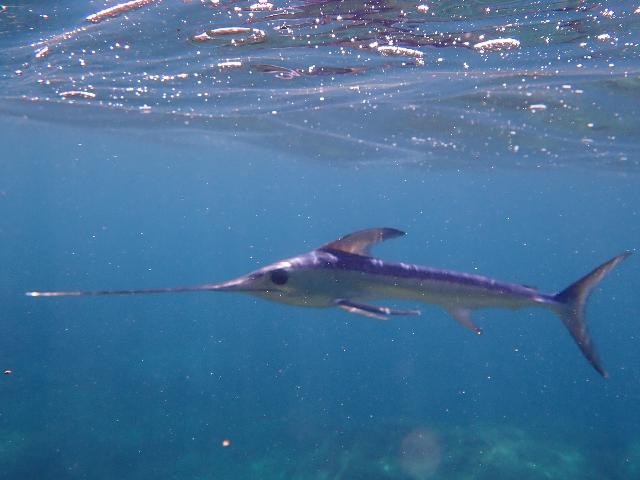Mulut: (12, 257, 298, 321)
Sirip Dada: (320, 290, 430, 336)
Sirip Ekor: (533, 246, 639, 384)
Sirip Perut: (440, 290, 494, 346)
Sirip Punggung: (312, 217, 413, 267)
